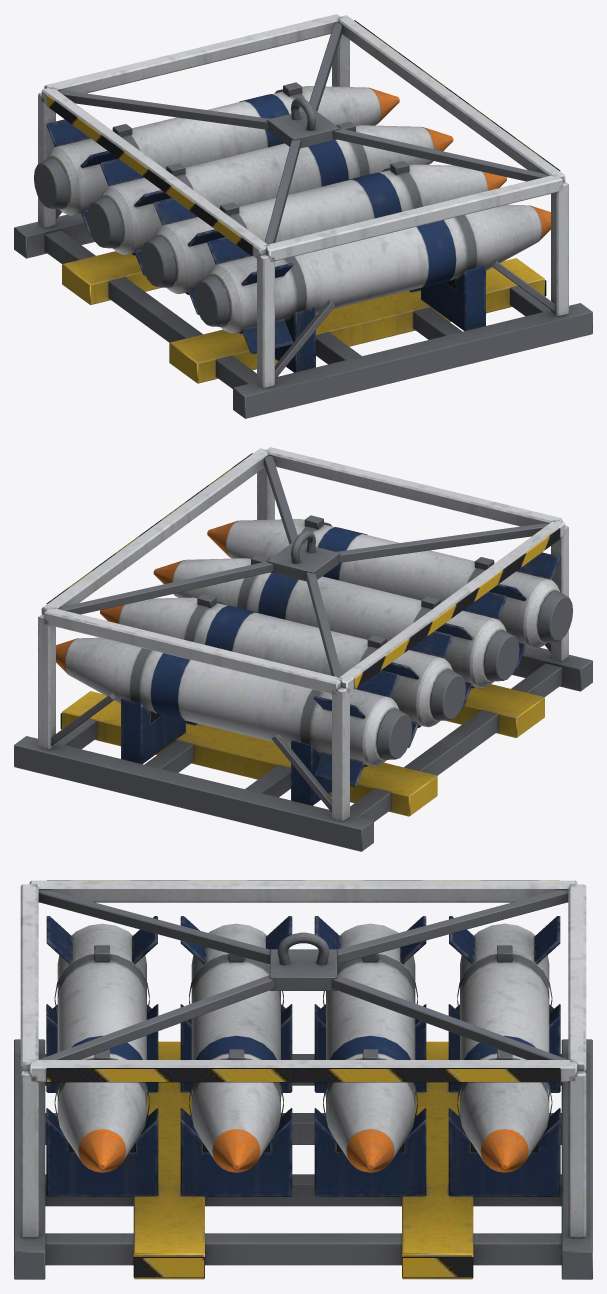
File: 整備庫_28_飛彈架.glb
The picture shows the model from 3 angles, top to bottom: view 1: azimuth 30°, elevation 25°; view 2: azimuth 150°, elevation 25°; view 3: azimuth 270°, elevation 25°; orthographic projection. The views are drawn at different scales.
Visible parts, largest first — view 1: Rack_Mesh; view 2: Rack_Mesh; view 3: Rack_Mesh.
Part boxes in pixels (x1,y1,x2,y2): Rack_Mesh: [14, 14, 592, 418]; Rack_Mesh: [14, 447, 592, 851]; Rack_Mesh: [14, 880, 592, 1279].
Bounding box in the file's own units: 4.57 × 2.37 × 5.18.
Materials: 1 (1 with a texture image).
